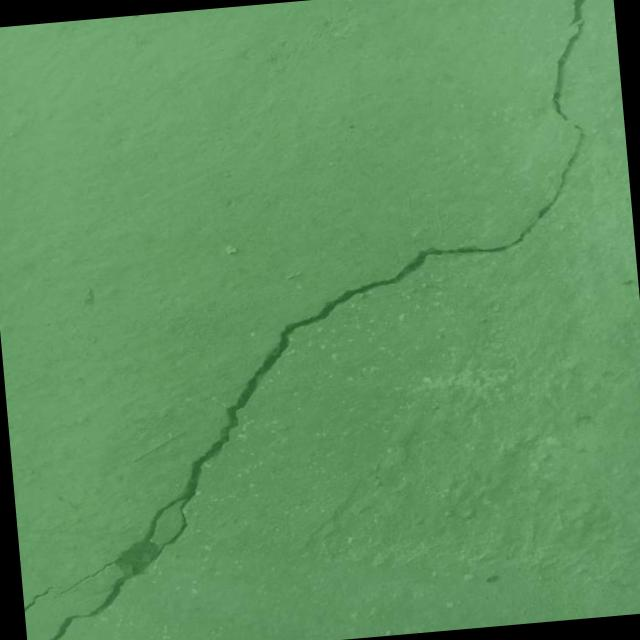crack: (0, 19, 636, 640), (22, 579, 73, 612), (563, 0, 601, 26)
